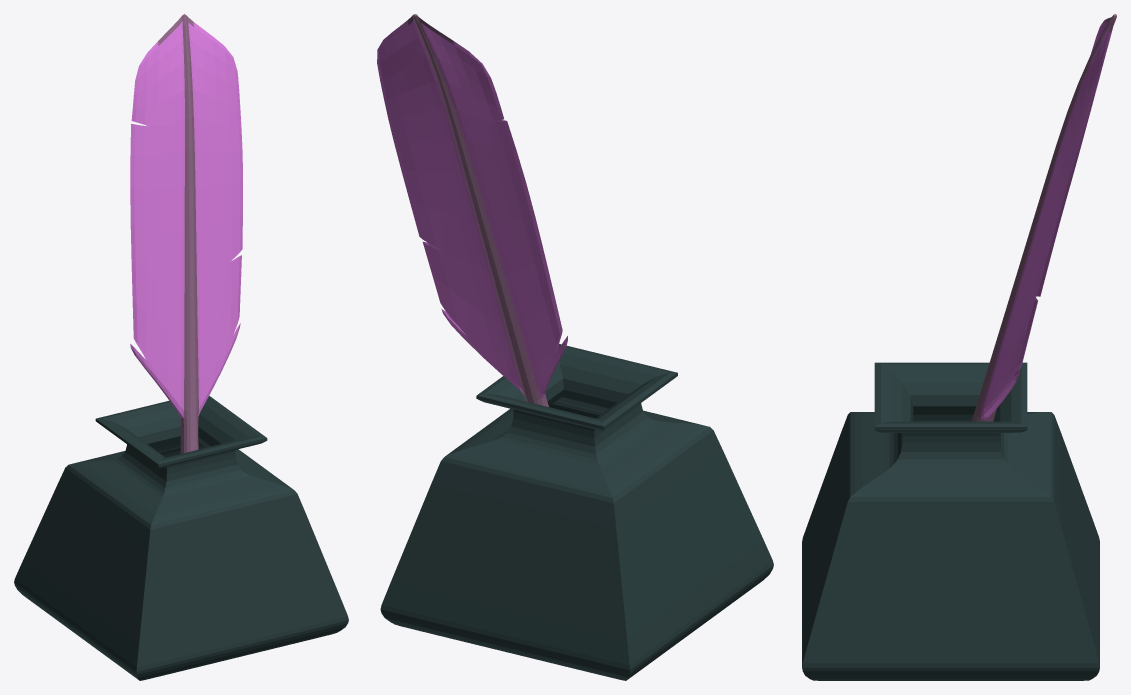
The model's file is inkwell.fbx.
The picture shows the model from 3 angles, left to right: view 1: azimuth 30°, elevation 25°; view 2: azimuth 150°, elevation 25°; view 3: azimuth 270°, elevation 25°; orthographic projection. The views are drawn at different scales.
Visible parts, largest first — view 1: Cube, Cylinder; view 2: Cube, Cylinder; view 3: Cube, Cylinder.
Part boxes in pixels (<box>): Cube: <box>14,395,348,680</box>; Cylinder: <box>130,14,242,453</box>; Cube: <box>380,344,773,680</box>; Cylinder: <box>377,14,567,406</box>; Cube: <box>802,362,1099,680</box>; Cylinder: <box>971,14,1116,421</box>.
Size of the model in its own units: 132 by 308 by 135.
